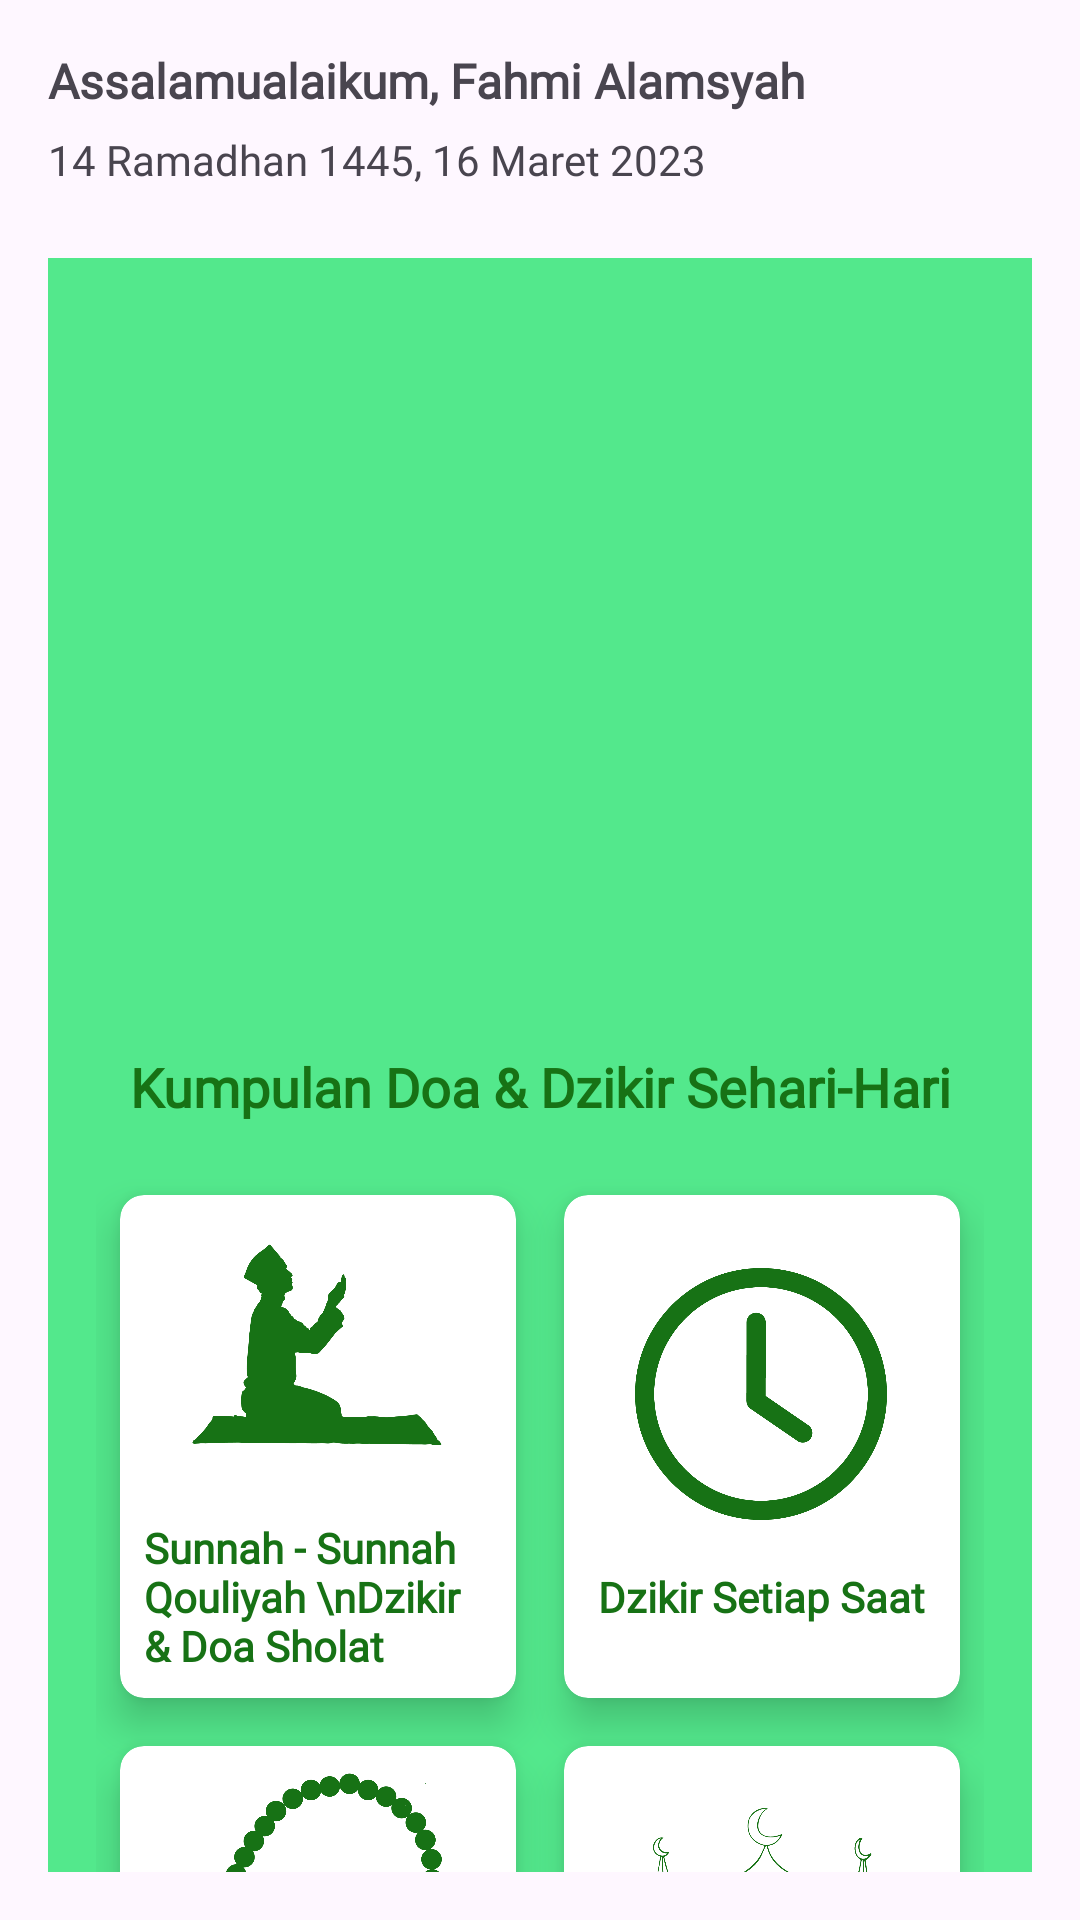

Named icons in this screenshot (1080x1920) and their centers, [x,y]:
clock: [761,1394]
person: [317,1344]
